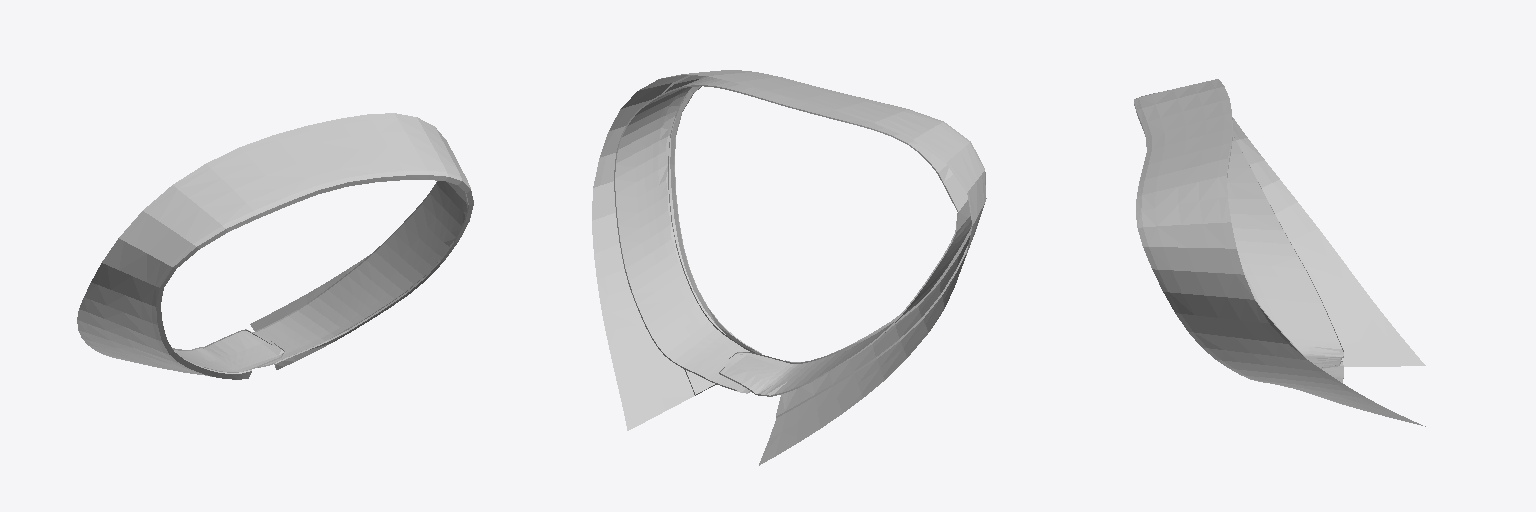
The model's file is joining_due.obj.
3 renders of one model, left to right at view 1: azimuth 30°, elevation 25°; view 2: azimuth 150°, elevation 25°; view 3: azimuth 270°, elevation 25°, orthographic.
Parts seen in each view (by area): view 1: Object109, 24_joining_due_BD, inner_collar_out; view 2: inner_collar_out, Object109, 24_joining_due_BD; view 3: Object109, 24_joining_due_BD, inner_collar_out.
Boxes of the visible parts, x1=… form: Object109: x1=77, y1=113, x2=459, y2=372; 24_joining_due_BD: x1=123, y1=146, x2=473, y2=379; inner_collar_out: x1=172, y1=181, x2=467, y2=372; inner_collar_out: x1=614, y1=76, x2=971, y2=396; Object109: x1=592, y1=71, x2=980, y2=465; 24_joining_due_BD: x1=661, y1=70, x2=986, y2=417; Object109: x1=1173, y1=79, x2=1425, y2=426; 24_joining_due_BD: x1=1134, y1=89, x2=1339, y2=403; inner_collar_out: x1=1227, y1=118, x2=1343, y2=382.
Size of the model in its own units: 17.67 by 13.16 by 12.38.